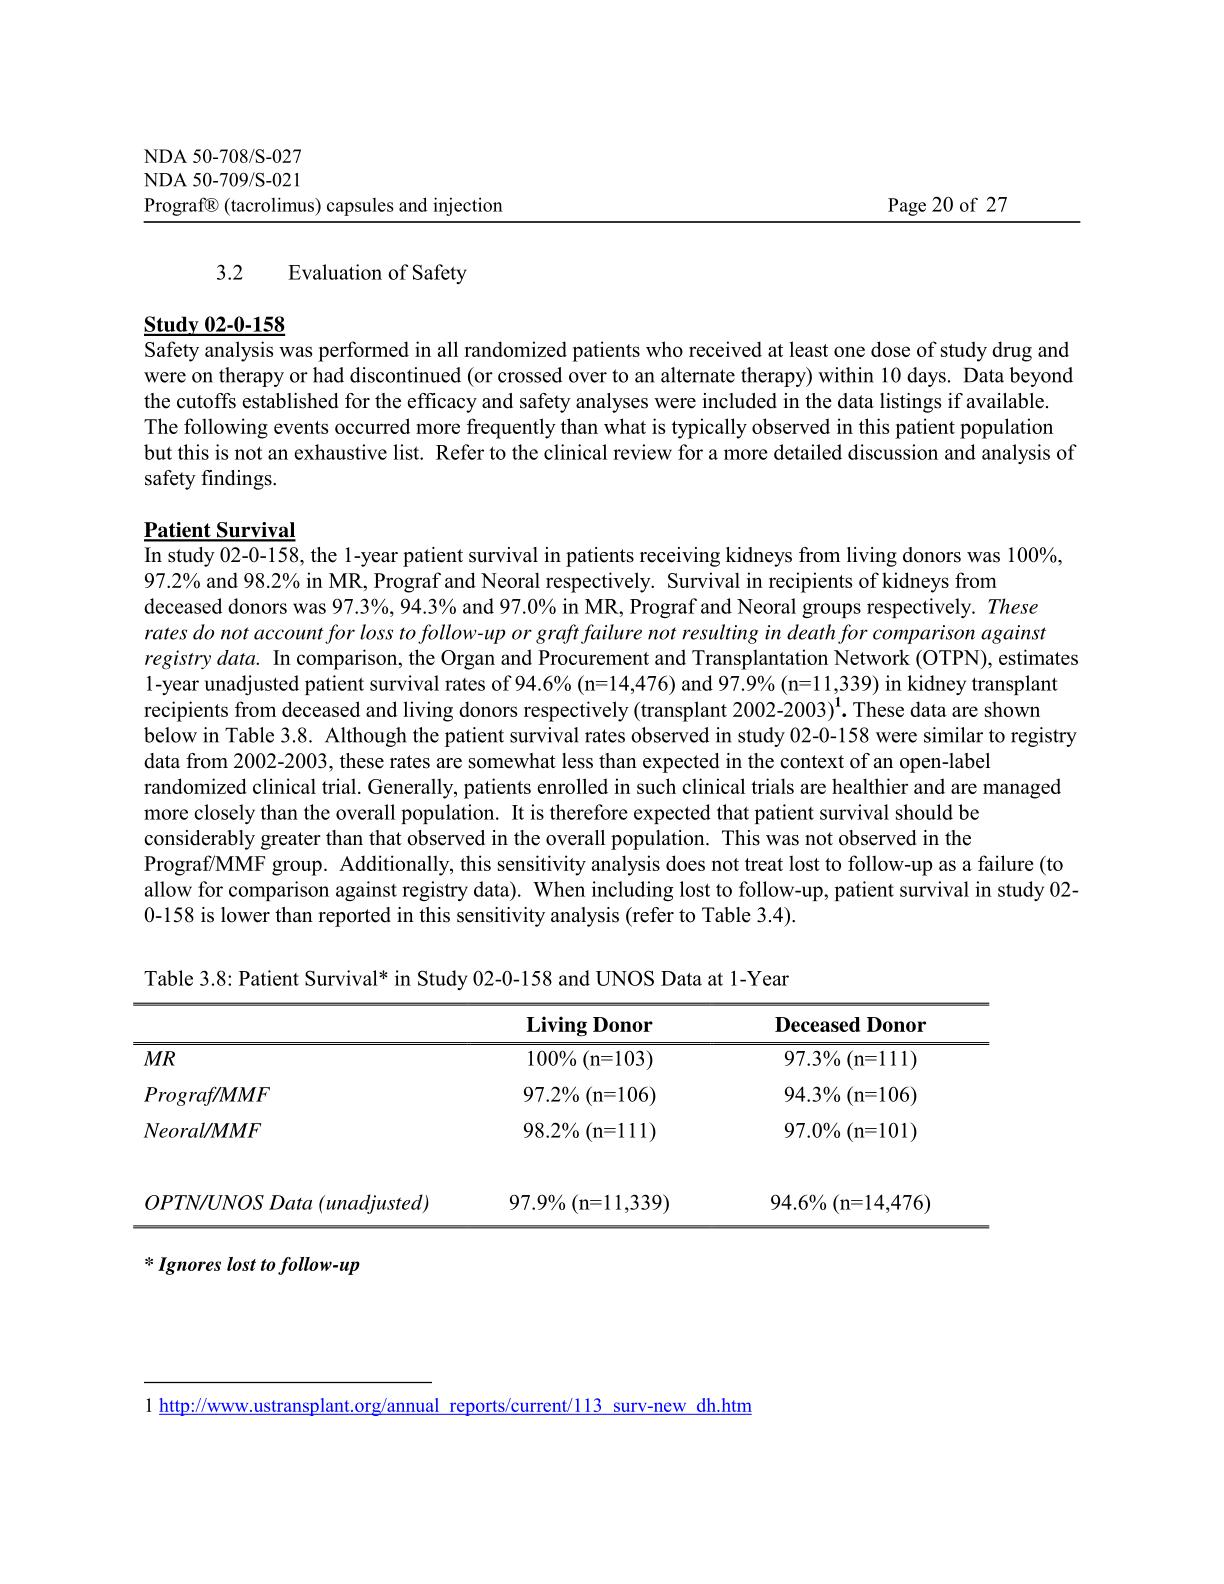partial_lined: (131, 1000, 991, 1230)
